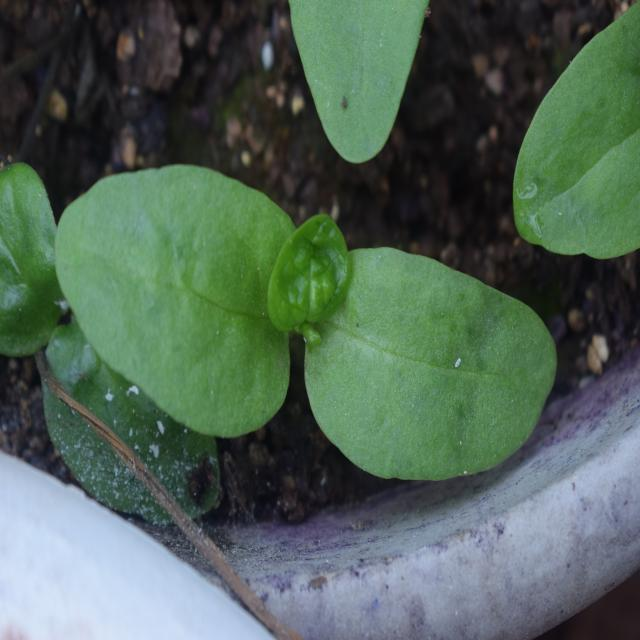Ceylon spinach: (62, 146, 554, 497)
